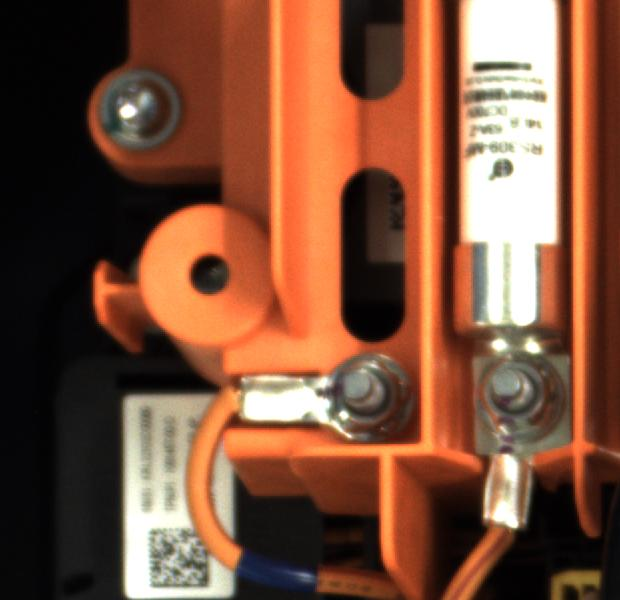screw_m: (86, 52, 198, 161)
screw_s: (462, 347, 582, 450), (317, 351, 423, 441)
